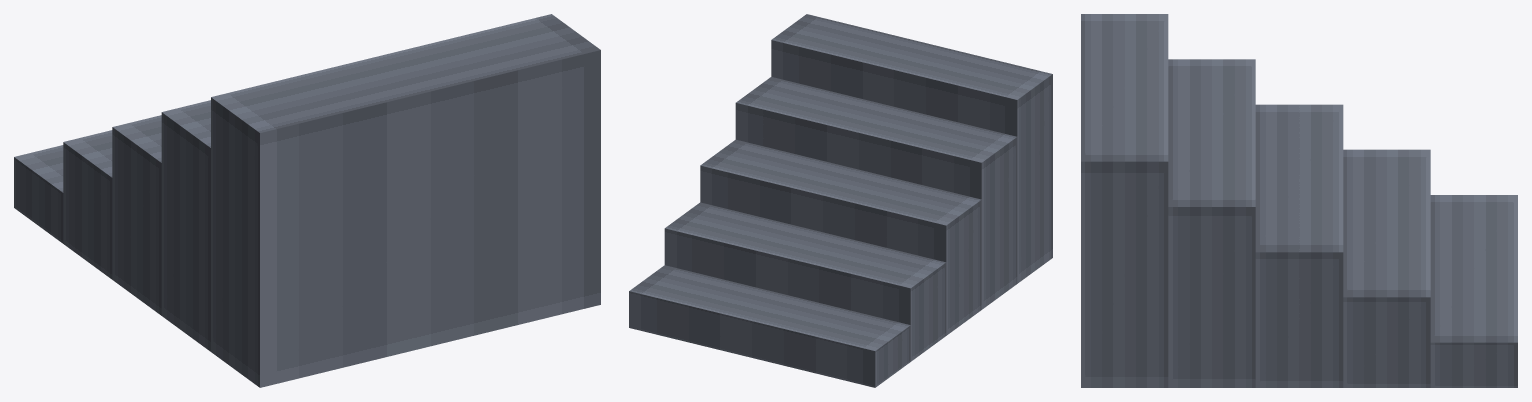
The model's file is ruin_stairs_forest.gltf.
3 renders of one model, left to right at view 1: azimuth 30°, elevation 25°; view 2: azimuth 150°, elevation 25°; view 3: azimuth 270°, elevation 25°, orthographic. The views are drawn at different scales.
Parts seen in each view (by area): view 1: root_mesh; view 2: root_mesh; view 3: root_mesh.
Part boxes in pixels (<box>): root_mesh: <box>14,14,600,387</box>; root_mesh: <box>629,14,1052,387</box>; root_mesh: <box>1081,14,1517,387</box>.
Size of the model in its own units: 1.75 by 1.25 by 2.19.
Materials: 1 (1 with a texture image).
